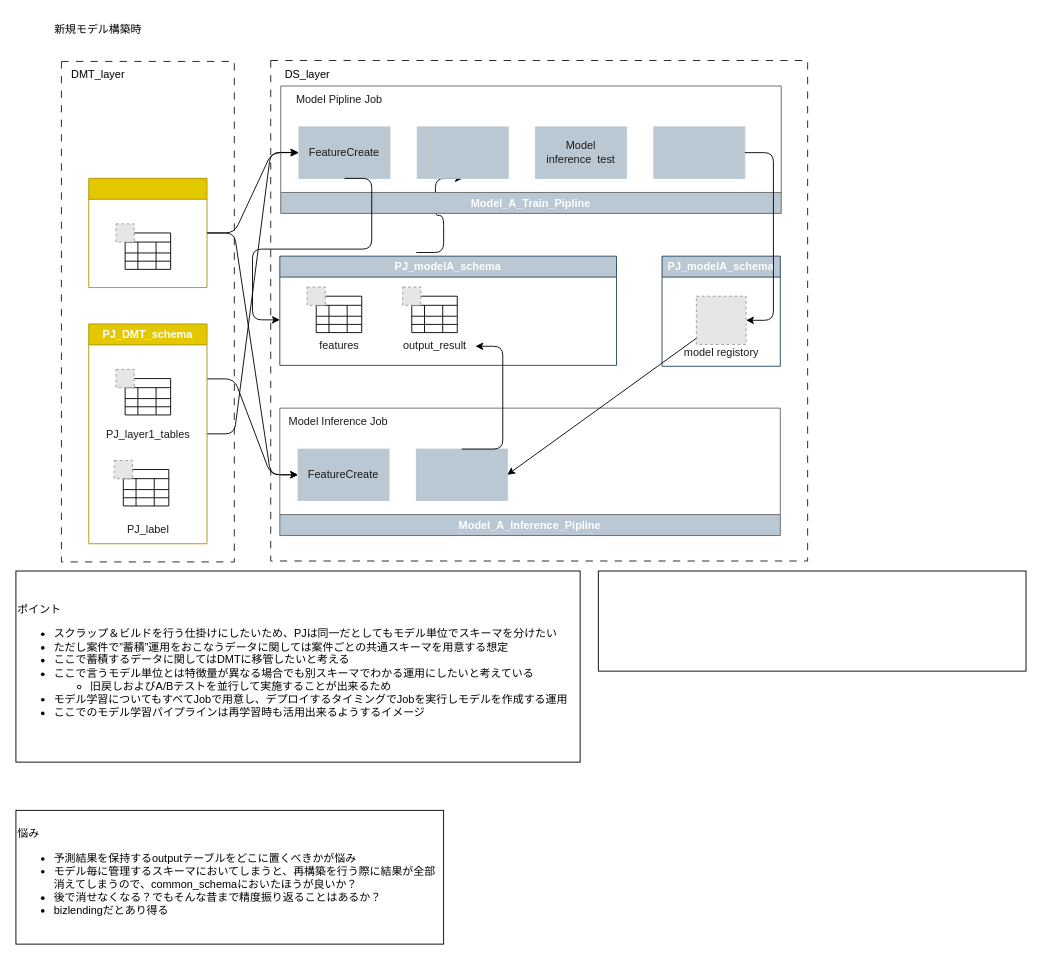
The diagram is 1042 pixels wide and 960 high, and some of its shapes have lost their labels. Grey dashed boxes stand in for pictures. The centre of each missing label's shape, as x and y in pixels:
"inference" goes at [461,474].
"MCIF_schema" goes at [147,232].
"Model deployment test" goes at [699,152].
"Modeling" goes at [462,152].
"修正点 特徴量生成パイプラインを整備 そのうえで特徴量スキーマを学習用と予測用で分けるかどうかを整理" goes at [811,620].
